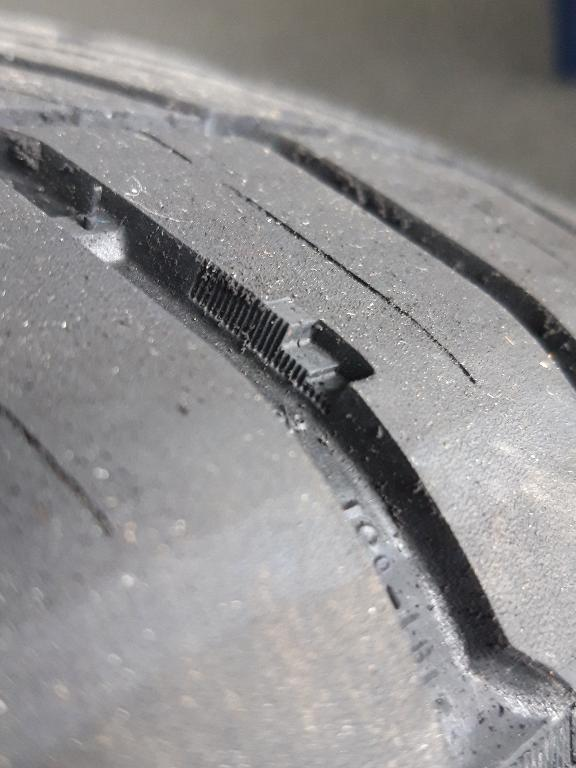temoin:50: (236, 284, 389, 426)
